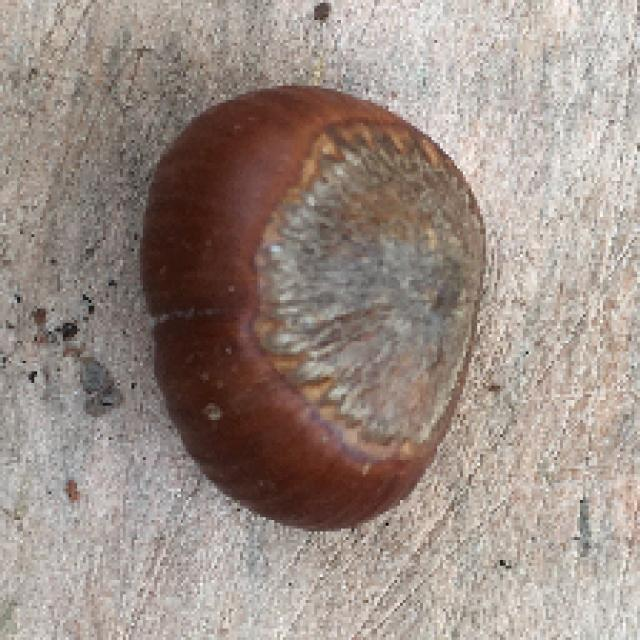damagedHazelnut: (139, 75, 490, 540)
